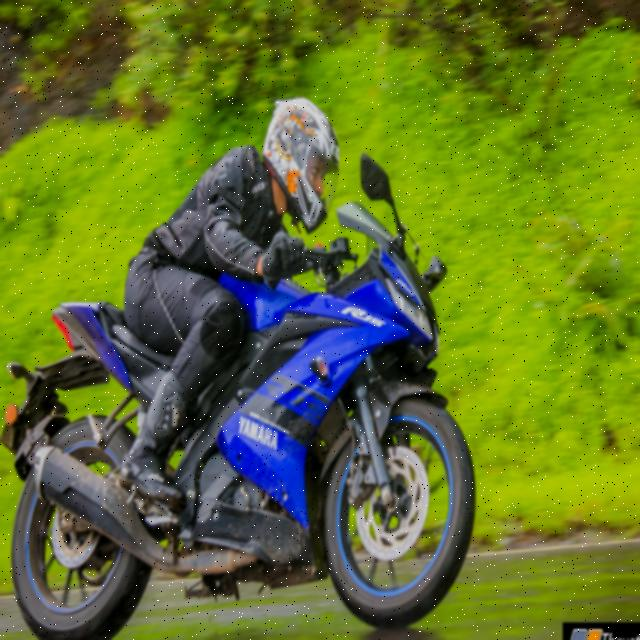not_triplets: (0, 94, 482, 640)
with-helmet: (269, 84, 350, 239)
